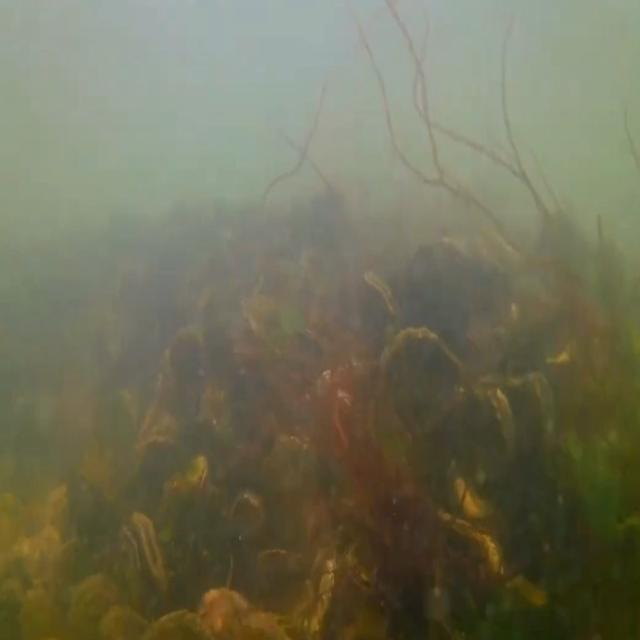Oyster-Closed: (359, 268, 402, 372), (163, 457, 210, 505)
Oyster-Indeterminate: (376, 325, 464, 423), (432, 381, 517, 479), (476, 369, 557, 454), (440, 508, 506, 576), (224, 490, 268, 590), (68, 574, 116, 640), (146, 349, 176, 448), (454, 473, 502, 519), (141, 415, 185, 457)
Oyster-Open: (113, 513, 171, 636), (300, 546, 340, 640)
